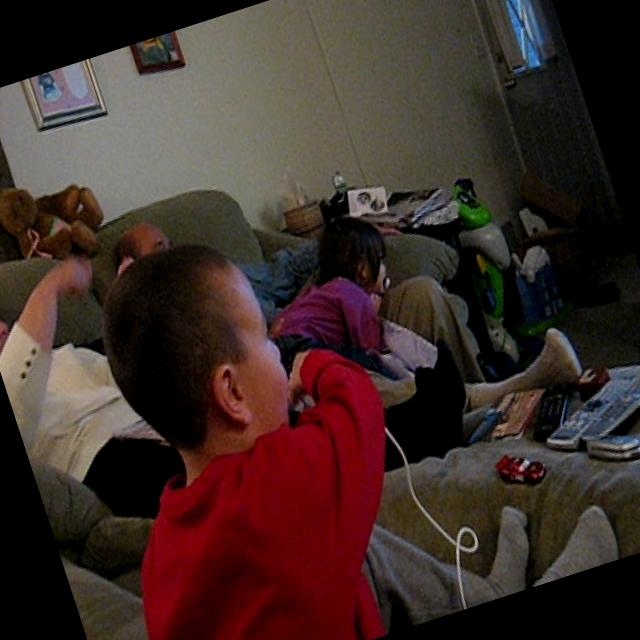Vehicle: (492, 442, 551, 496)
